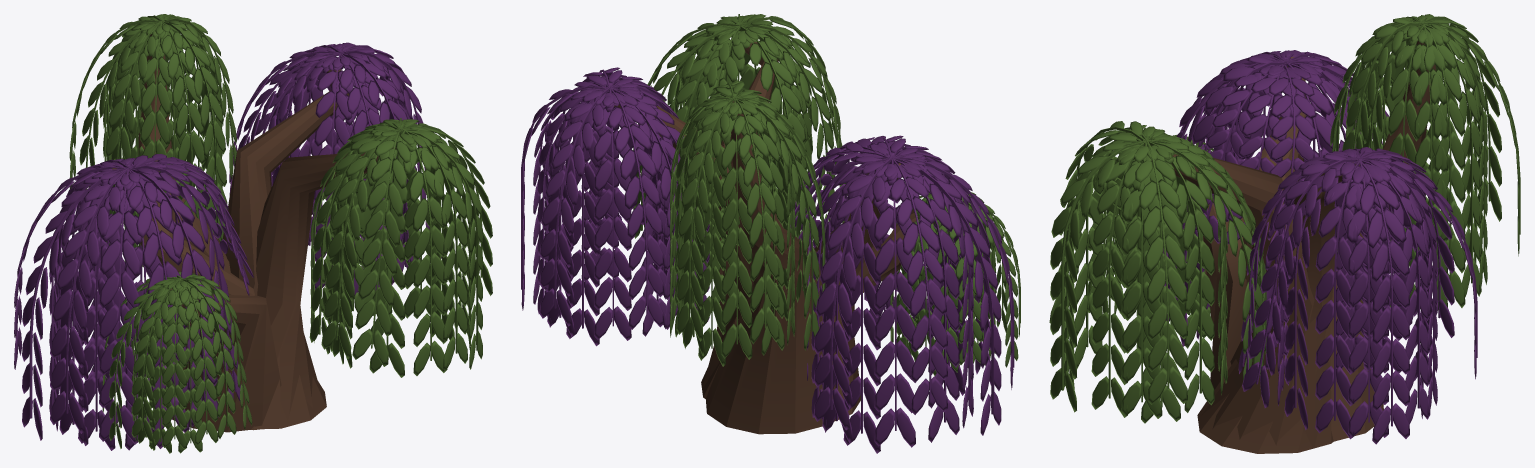
The model's file is saule-pleureur-colore.fbx.
3 renders of one model, left to right at view 1: azimuth 30°, elevation 25°; view 2: azimuth 150°, elevation 25°; view 3: azimuth 270°, elevation 25°, orthographic. The views are drawn at different scales.
Visible parts, largest first — view 1: pCylinder5, pCylinder2, pCube80 (×2), pCube78 (×2), pCube42, pCube44, pCylinder4, pCube92, pCube38, pCube86 (×2), pCube94, pCube41 (+50 smaller); view 2: pCylinder3, pCube82 (×2), pCube46, pCube53, pCube45, pCube83 (×2), pCube90, pCube62, pCube70, pCube38, pCube63, pCube39 (+50 smaller); view 3: pCube85 (×2), pCube84 (×2), pCylinder5, pCube83 (×2), pCube91 (×2), pCube80 (×2), pCube93 (×2), pCube92, pCube94 (×2), pCube82 (×2), pCube90 (×2), pCylinder2 (+32 smaller).
Part boxes in pixels (x1,y1,x2,y2): pCylinder5: (251,147,396,430); pCylinder2: (222,69,349,429); pCube80 (×2): (343,48,441,366); pCube78 (×2): (321,53,420,358); pCube42: (50,166,133,433); pCube44: (99,166,145,444); pCylinder4: (170,288,281,432); pCube92: (402,128,447,375); pCube38: (22,170,118,440); pCube86 (×2): (309,53,398,354); pCube94: (403,129,467,371); pCube41: (128,168,218,426); pCylinder3: (706,101,838,434); pCube82 (×2): (602,26,739,329); pCube46: (813,158,897,430); pCube53: (873,159,915,447); pCube45: (884,158,947,414); pCube83 (×2): (539,18,740,326); pCube90: (593,89,631,340); pCube62: (728,98,779,344); pCube70: (720,99,752,359); pCube38: (902,160,1001,435); pCube63: (676,98,738,341); pCube39: (843,156,897,453); pCube85 (×2): (1050,140,1409,444); pCube84 (×2): (1091,142,1430,423); pCylinder5: (1144,145,1329,448); pCube83 (×2): (1134,143,1477,404); pCube91 (×2): (1121,143,1437,418); pCube80 (×2): (1049,121,1355,407); pCube93 (×2): (1074,139,1364,429); pCube92: (1315,159,1370,439); pCube94 (×2): (1064,140,1388,437); pCube82 (×2): (1148,140,1454,380); pCube90 (×2): (1147,141,1432,412); pCylinder2: (1197,162,1359,453).
Bounding box in the file's own units: 11.78 × 9.33 × 10.16.
